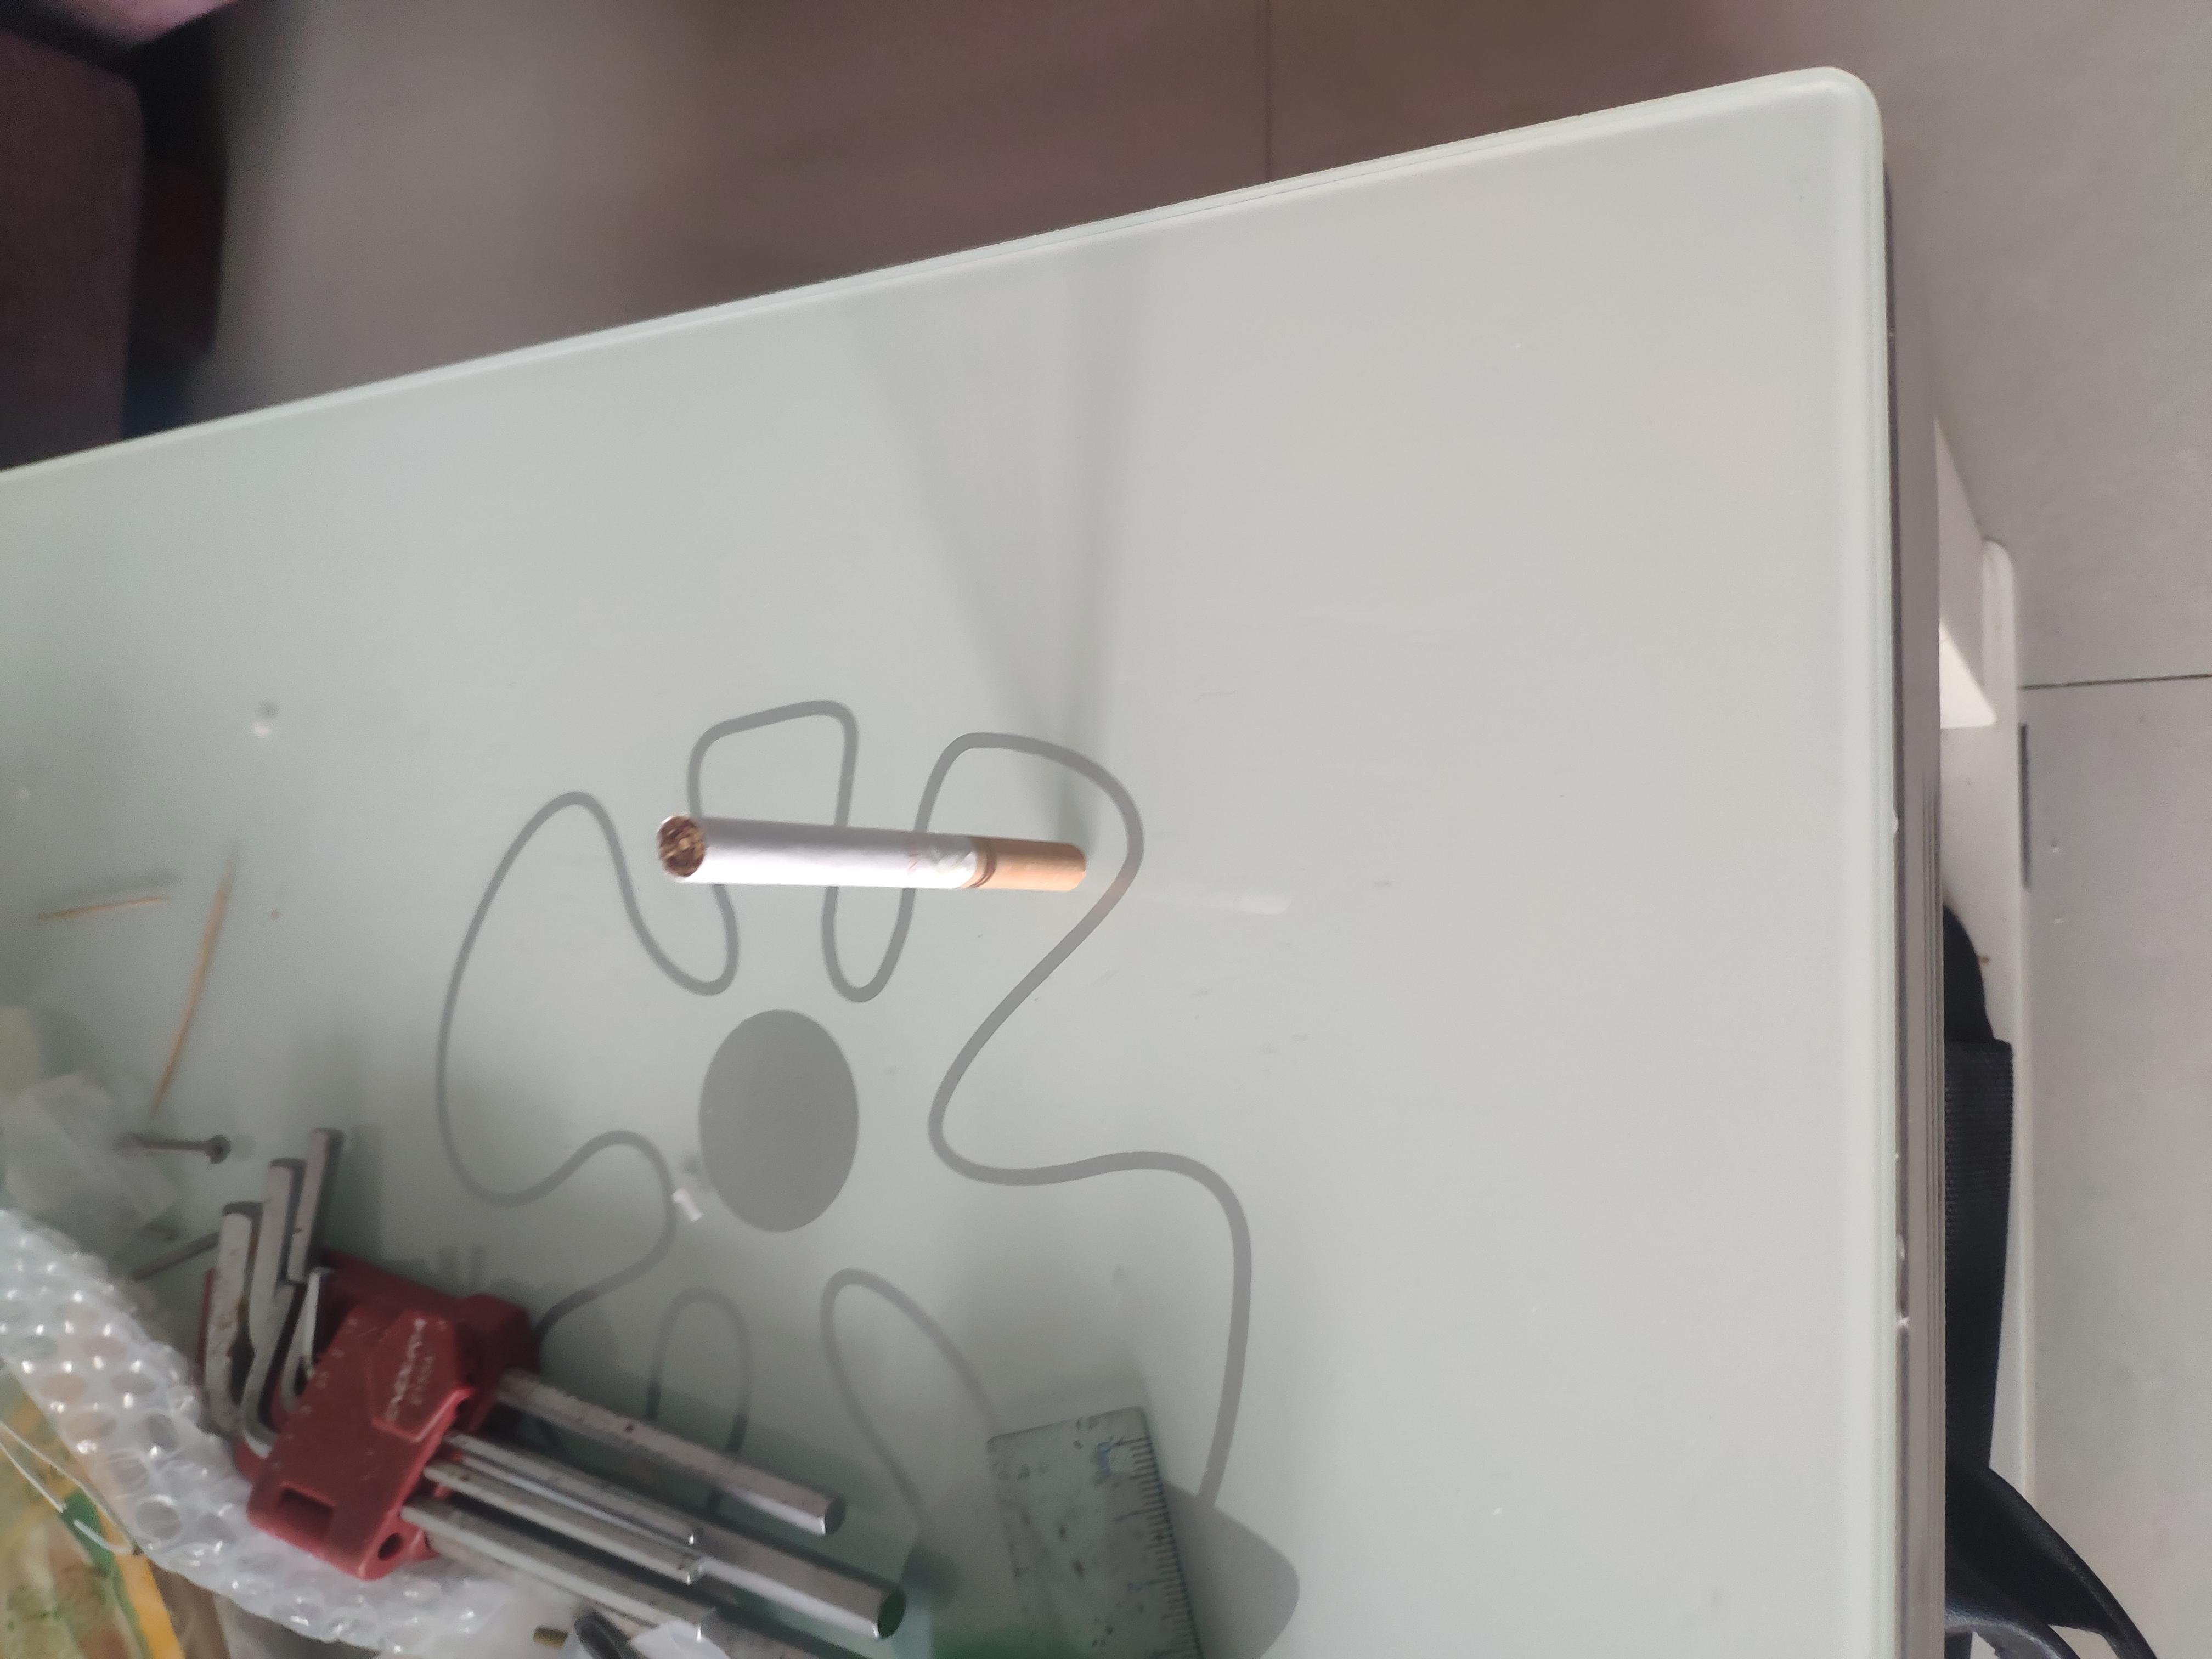smoke: (1017, 490, 1136, 812)
